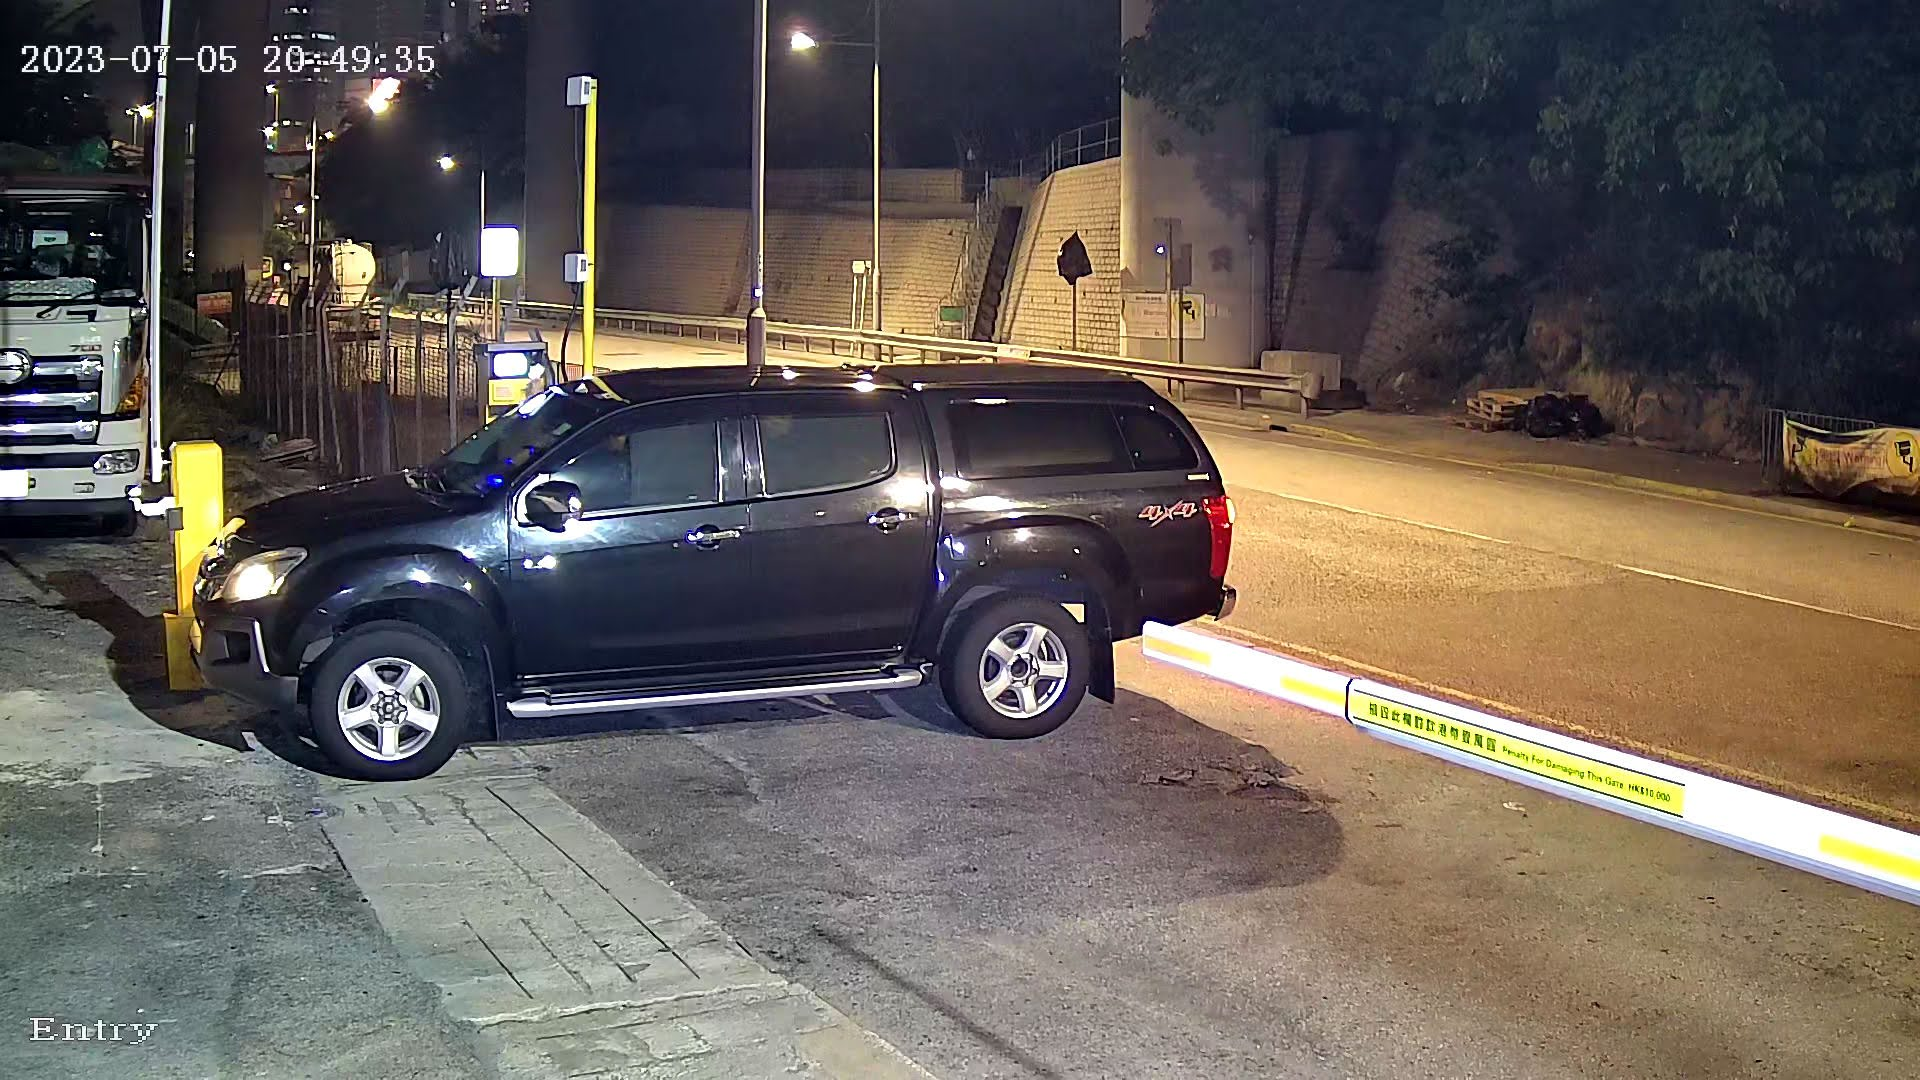privatecar: (164, 326, 1247, 807)
